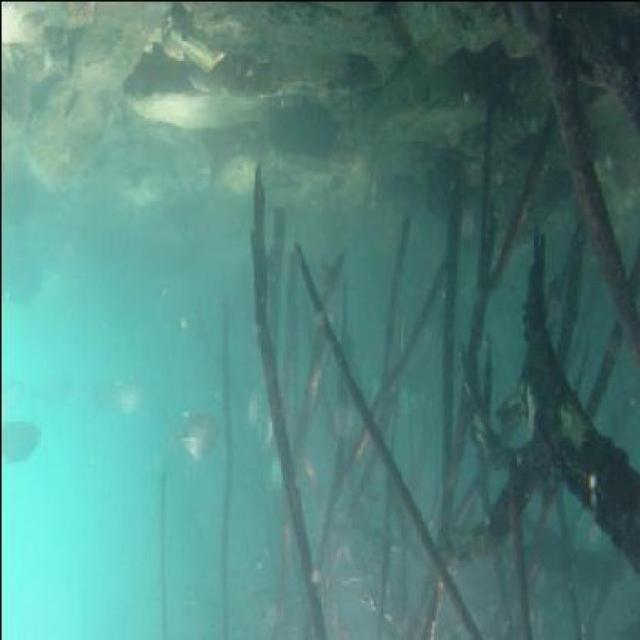Caranx_sexfasciatus_juvenile: (164, 400, 218, 469), (91, 372, 146, 422), (0, 414, 42, 469), (25, 370, 73, 416), (243, 376, 265, 429)
